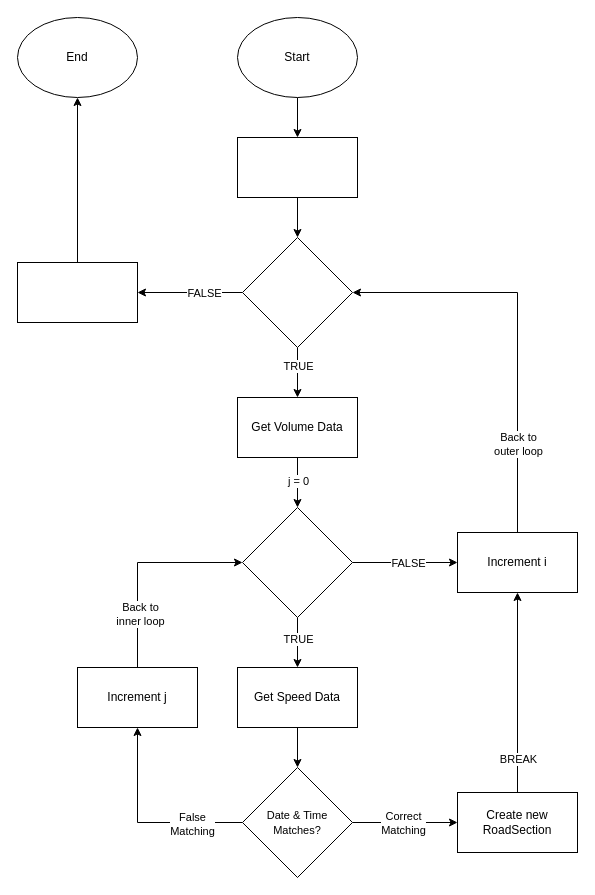
The diagram is 595 pixels wide and 895 high, and some of its shapes have lost their labels. The shapes that lost their labels are listed below. From the top down, each one's centre as x and y in pixels, then its label:
At (x=297, y=167): "New empty ArrayList roadSections".
At (x=77, y=292): "Return roadSections".
At (x=297, y=292): "i < volumeList.size".
At (x=297, y=562): "j < speedList.size".
